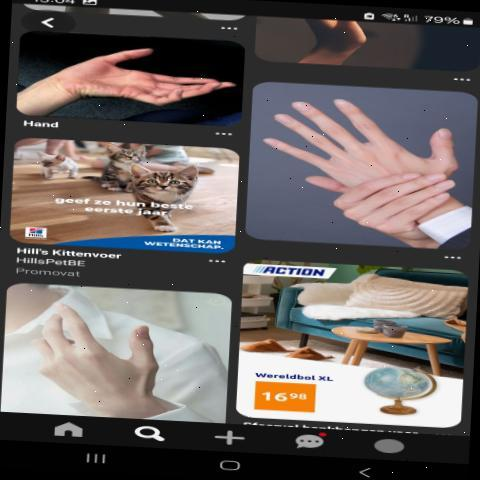Hands: (258, 86, 470, 221), (26, 36, 239, 123), (33, 298, 192, 404)
